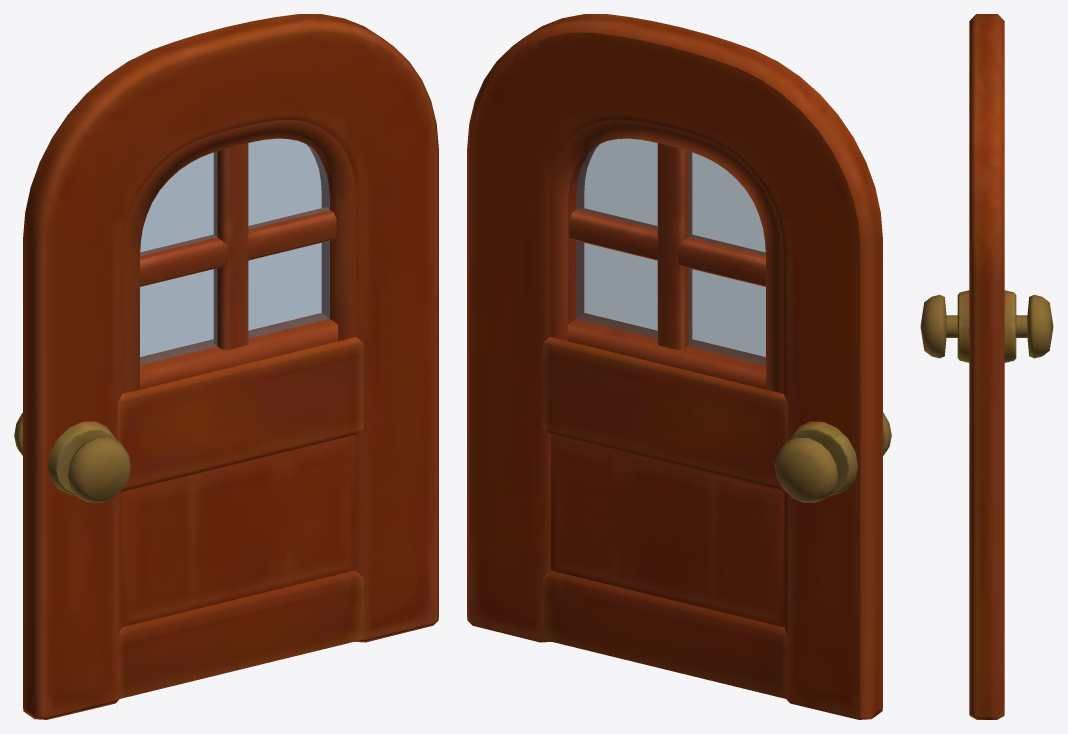
The model's file is door-window-r.glb.
3 views of the same model, side by side, from view 1: azimuth 30°, elevation 25°; view 2: azimuth 150°, elevation 25°; view 3: azimuth 270°, elevation 25° (orthographic). The views are drawn at different scales.
Bounding box in the file's own units: 12 × 18 × 3.74.
Materials: 2 (1 with a texture image).
